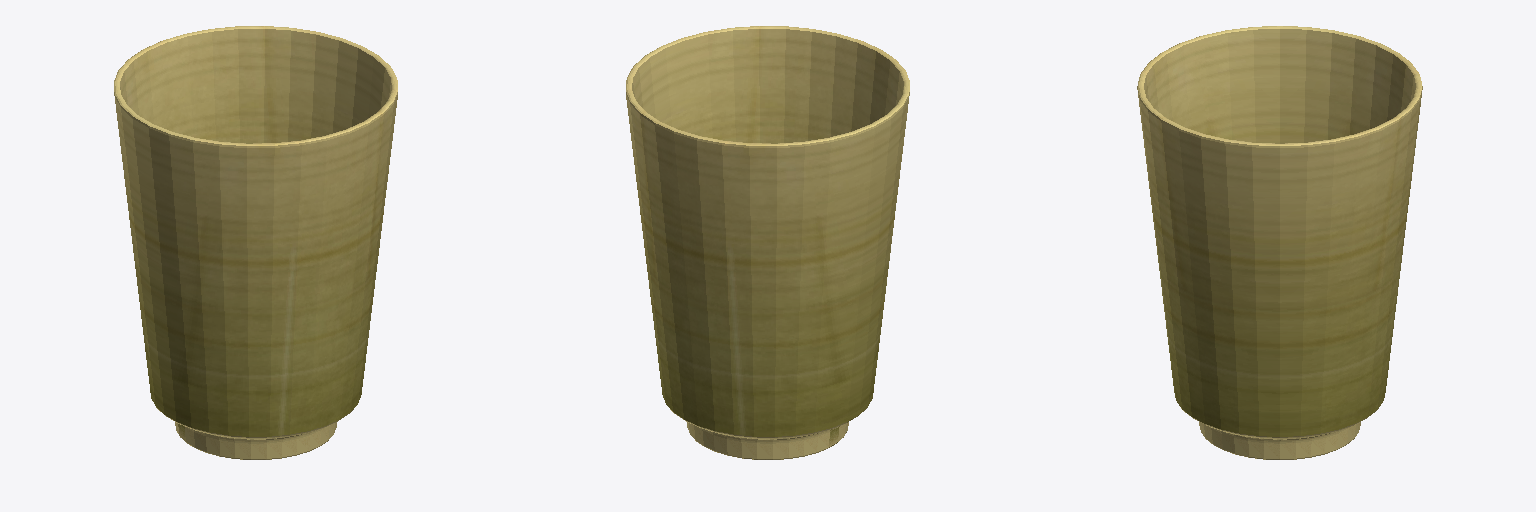
3 views of the same model, side by side, from view 1: azimuth 30°, elevation 25°; view 2: azimuth 150°, elevation 25°; view 3: azimuth 270°, elevation 25° (orthographic).
Visible parts, largest first — view 1: vase_Mesh.002; view 2: vase_Mesh.002; view 3: vase_Mesh.002.
Boxes of the visible parts, box(x1,y1,x2,y2) form: vase_Mesh.002: box(114, 26, 397, 459); vase_Mesh.002: box(626, 26, 909, 459); vase_Mesh.002: box(1137, 26, 1422, 459).
Bounding box in the file's own units: 1.44 × 1.9 × 1.44.
2 materials, 1 textured.